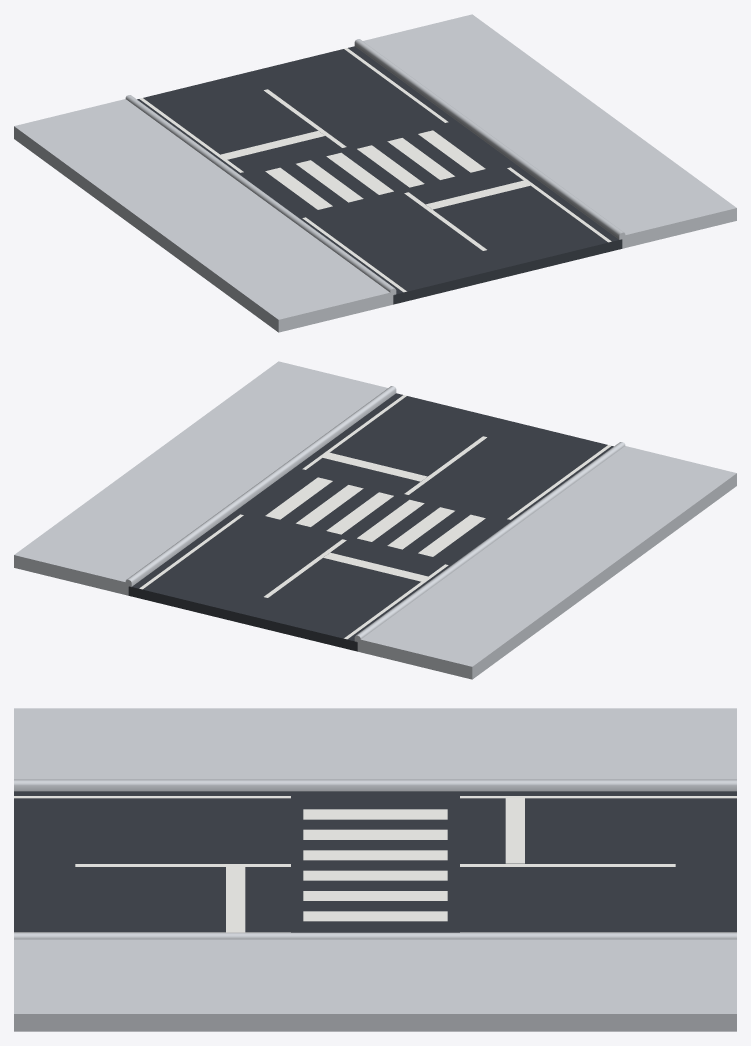
Rendered from rua_reta_faixa_pedestres.glb.
The picture shows the model from 3 angles, top to bottom: view 1: azimuth 30°, elevation 25°; view 2: azimuth 150°, elevation 25°; view 3: azimuth 270°, elevation 25°; orthographic projection. The views are drawn at different scales.
Visible parts, largest first — view 1: rua_reta_faixa_pedestres; view 2: rua_reta_faixa_pedestres; view 3: rua_reta_faixa_pedestres.
Boxes of the visible parts, x1,y1,x2,y2 form: rua_reta_faixa_pedestres: (14, 14, 736, 332); rua_reta_faixa_pedestres: (14, 361, 736, 679); rua_reta_faixa_pedestres: (14, 708, 736, 1031).
Size of the model in its own units: 15 by 0.5 by 15.
Materials: 1 (1 with a texture image).
